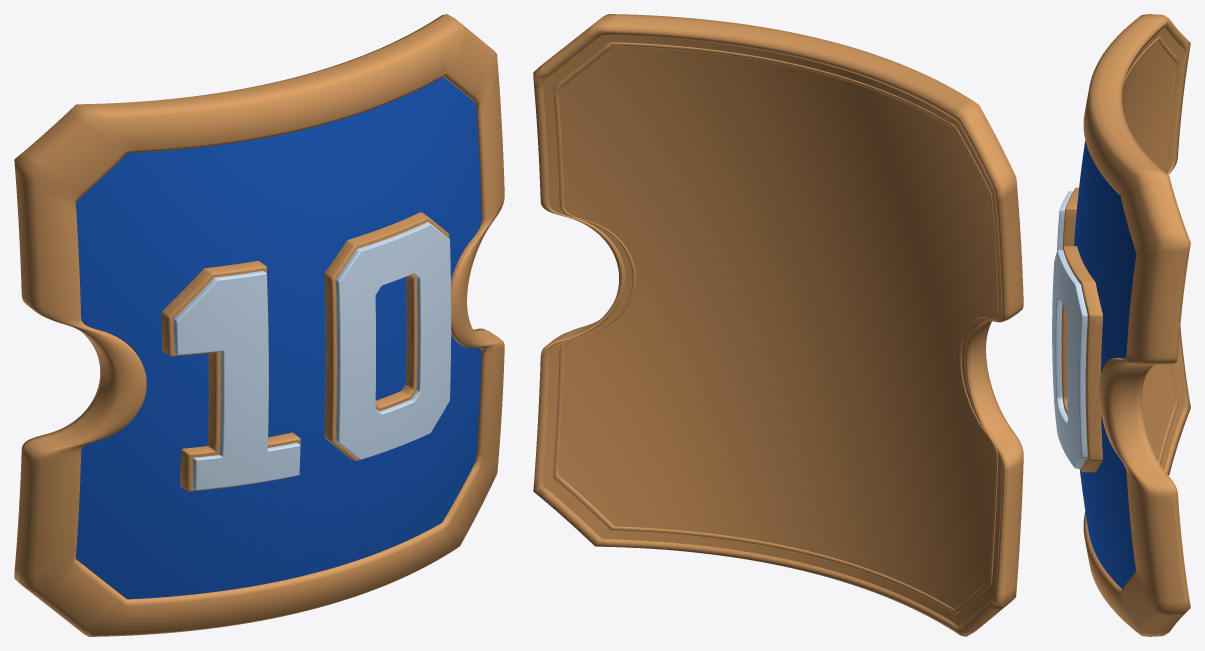
The model's file is experience-10.glb.
3 views of the same model, side by side, from view 1: azimuth 30°, elevation 25°; view 2: azimuth 150°, elevation 25°; view 3: azimuth 270°, elevation 25° (orthographic). The views are drawn at different scales.
Parts seen in each view (by area): view 1: acrylic_ticket_inset_conforming, metal_ticket_perimeter, ivory_number_10_1_0_conforming, ivory_number_10_0_0_conforming, metal_number_10_1_0_conforming, metal_number_10_0_0_conforming; view 2: satin_ticket_reverse_conforming, metal_ticket_perimeter, satin_rear_border; view 3: metal_ticket_perimeter, acrylic_ticket_inset_conforming, satin_ticket_reverse_conforming, ivory_number_10_1_0_conforming, metal_number_10_1_0_conforming, satin_rear_border, metal_number_10_0_0_conforming, ivory_number_10_0_0_conforming.
Boxes of the visible parts, x1,y1,x2,y2 form: acrylic_ticket_inset_conforming: [75, 76, 481, 599]; metal_ticket_perimeter: [14, 14, 504, 636]; ivory_number_10_1_0_conforming: [335, 222, 451, 459]; ivory_number_10_0_0_conforming: [173, 271, 300, 490]; metal_number_10_1_0_conforming: [324, 212, 449, 460]; metal_number_10_0_0_conforming: [161, 261, 300, 491]; satin_ticket_reverse_conforming: [542, 35, 1001, 625]; metal_ticket_perimeter: [533, 14, 1023, 636]; satin_rear_border: [553, 42, 998, 614]; metal_ticket_perimeter: [1083, 14, 1190, 636]; acrylic_ticket_inset_conforming: [1074, 141, 1136, 588]; satin_ticket_reverse_conforming: [1122, 27, 1184, 470]; ivory_number_10_1_0_conforming: [1052, 250, 1087, 468]; metal_number_10_1_0_conforming: [1061, 246, 1102, 472]; satin_rear_border: [1122, 36, 1178, 464]; metal_number_10_0_0_conforming: [1062, 187, 1078, 248]; ivory_number_10_0_0_conforming: [1057, 191, 1072, 250].
Bounding box in the file's own units: 1.88 × 2 × 0.5434.
